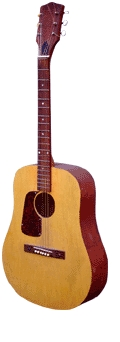guitar: (2, 3, 108, 310)
